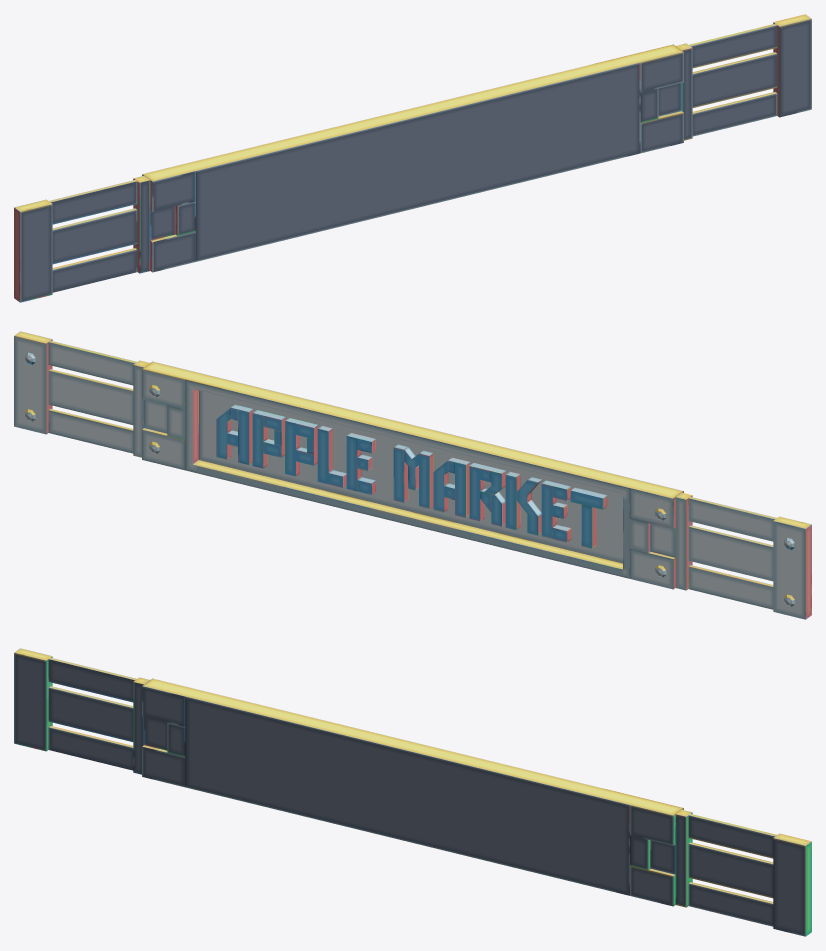
The model's file is Apple Market Sign.obj.
3 views of the same model, one above another, from view 1: azimuth 30°, elevation 25°; view 2: azimuth 150°, elevation 25°; view 3: azimuth 330°, elevation 25° (orthographic).
Visible parts, largest first — view 1: Body; view 2: Body, A, P, E, M, R, K, T, L; view 3: Body.
Boxes of the visible parts, box(x1,y1,x2,y2) form: Body: box(14, 14, 811, 302); Body: box(14, 331, 811, 619); A: box(216, 404, 469, 517); P: box(252, 410, 318, 476); E: box(346, 433, 571, 542); M: box(393, 444, 433, 508); R: box(469, 463, 506, 526); K: box(505, 471, 541, 535); T: box(570, 487, 607, 548); L: box(317, 426, 346, 487); Body: box(14, 648, 811, 936).
Bounding box in the file's own units: 13.69 × 1.5 × 0.3594.
Materials: 1 (1 with a texture image).
